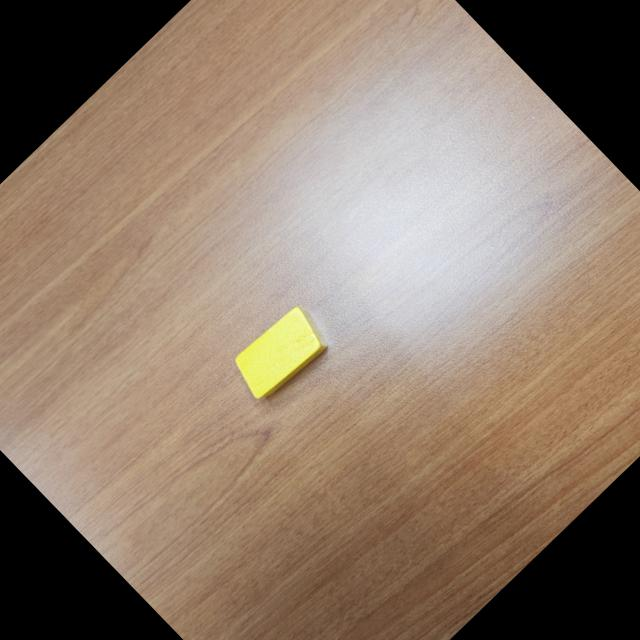yellow: (224, 298, 338, 411)
